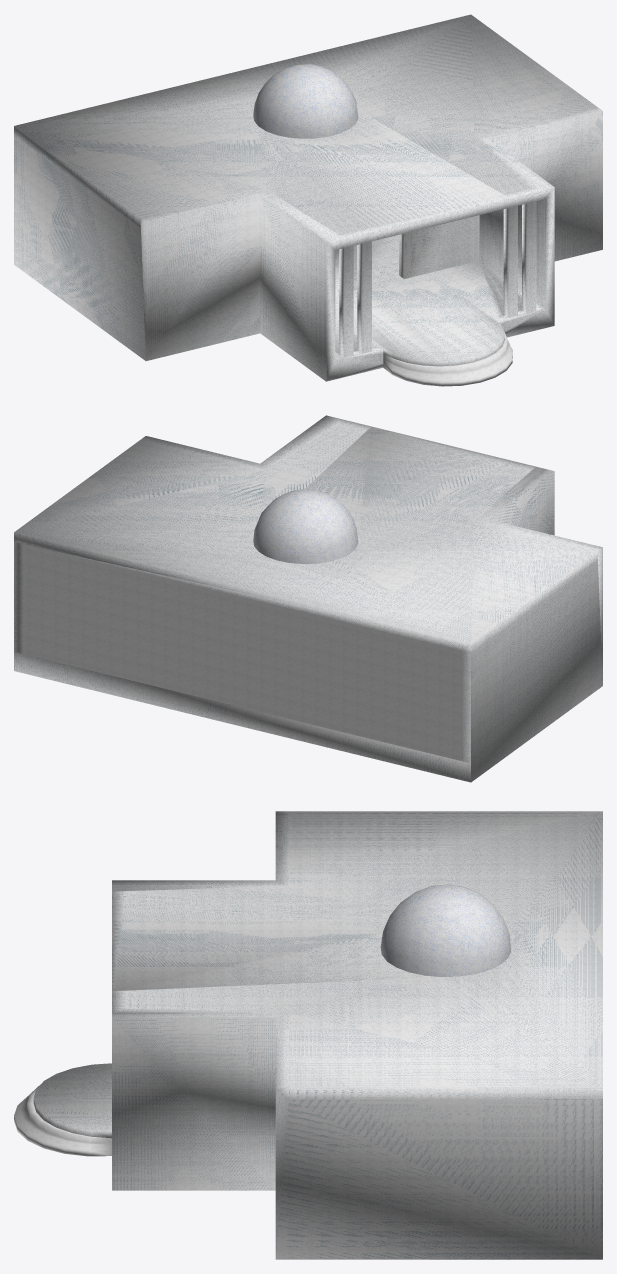
Rendered from fdsa.dae.
3 views of the same model, one above another, from view 1: azimuth 30°, elevation 25°; view 2: azimuth 150°, elevation 25°; view 3: azimuth 270°, elevation 25° (orthographic). The views are drawn at different scales.
Visible parts, largest first — view 1: SketchUp (×3); view 2: SketchUp (×3); view 3: SketchUp (×3).
Boxes of the visible parts, left/top/right/bottom form: SketchUp (×3): left=14, top=14, right=602, bottom=386; SketchUp (×3): left=14, top=415, right=602, bottom=782; SketchUp (×3): left=14, top=811, right=602, bottom=1259.
Size of the model in its own units: 1200 by 1080 by 468.
Materials: 4 (1 with a texture image).
